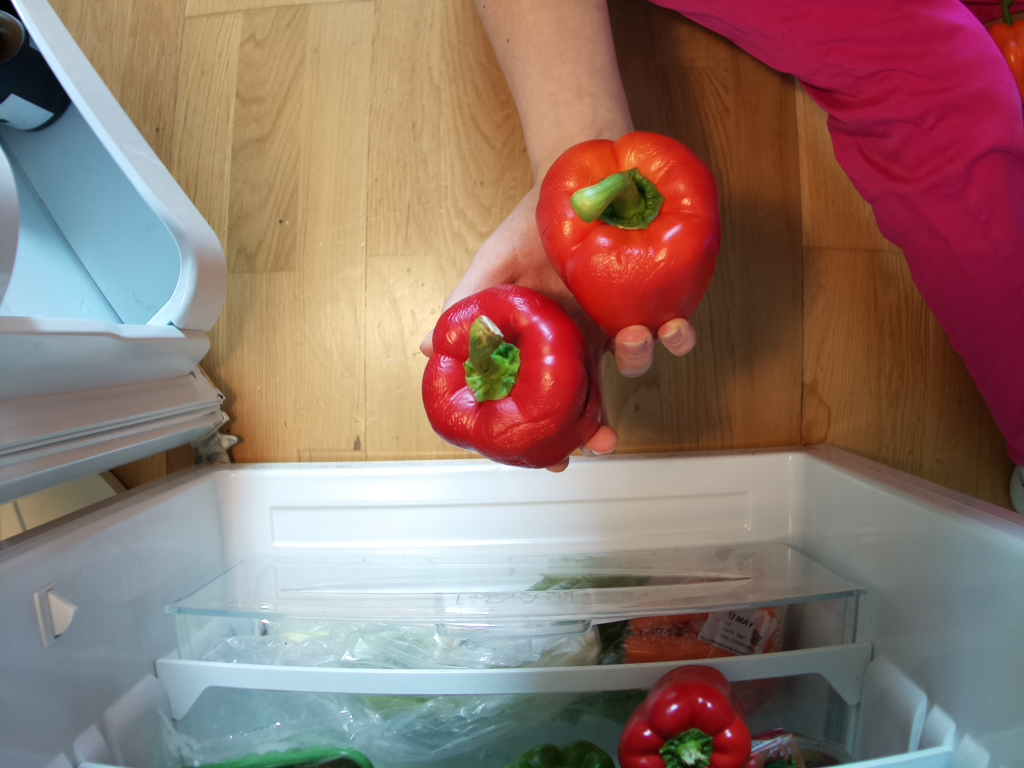pepper: (420, 286, 598, 470)
pepper-bad: (536, 131, 722, 337), (615, 665, 752, 768)
